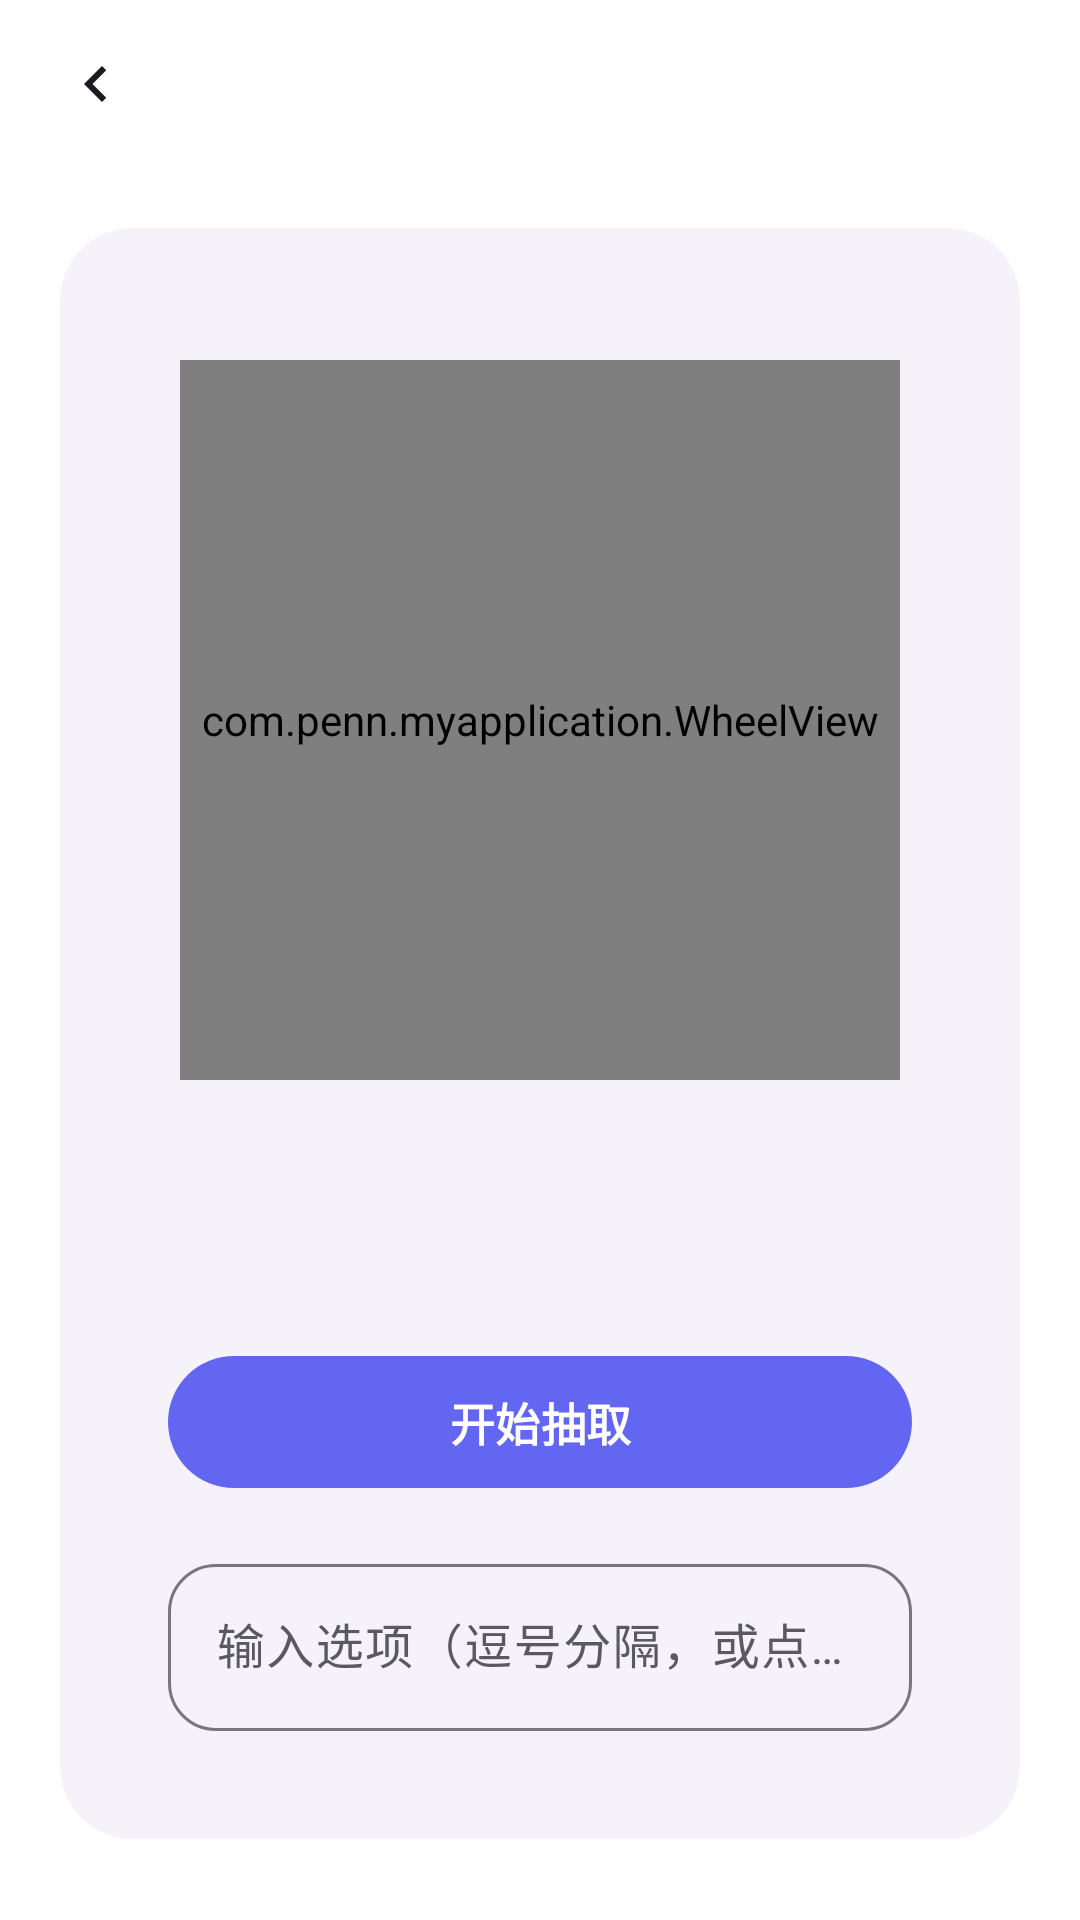

Icon bounding boxes for this 1080 × 1920 phone screenshot, format (left=x1, top=y1, right=x2, bottom=y2):
返回: (left=84, top=66, right=106, bottom=102)
